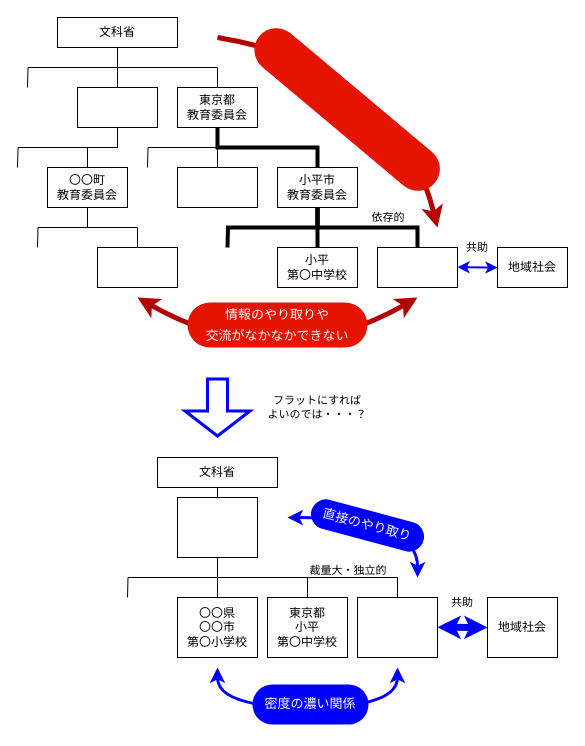
This 585x746 diagram has some shape labels left out. Each missing label, with the centre of its shape:
"〇〇 小学校" belongs at (137,267).
"〇〇市 教育委員会" belongs at (217,187).
"〇〇県 教育委員会" belongs at (117,107).
"共通の 事務処理を 担う組織" belongs at (217,527).
"小平 第〇小学校" belongs at (417,267).
"東京都 小平 第〇小学校" belongs at (397,627).
"管理重視のため、 伝言ゲーム のよう にしてどんどん制限が強くなる" belongs at (346,109).
